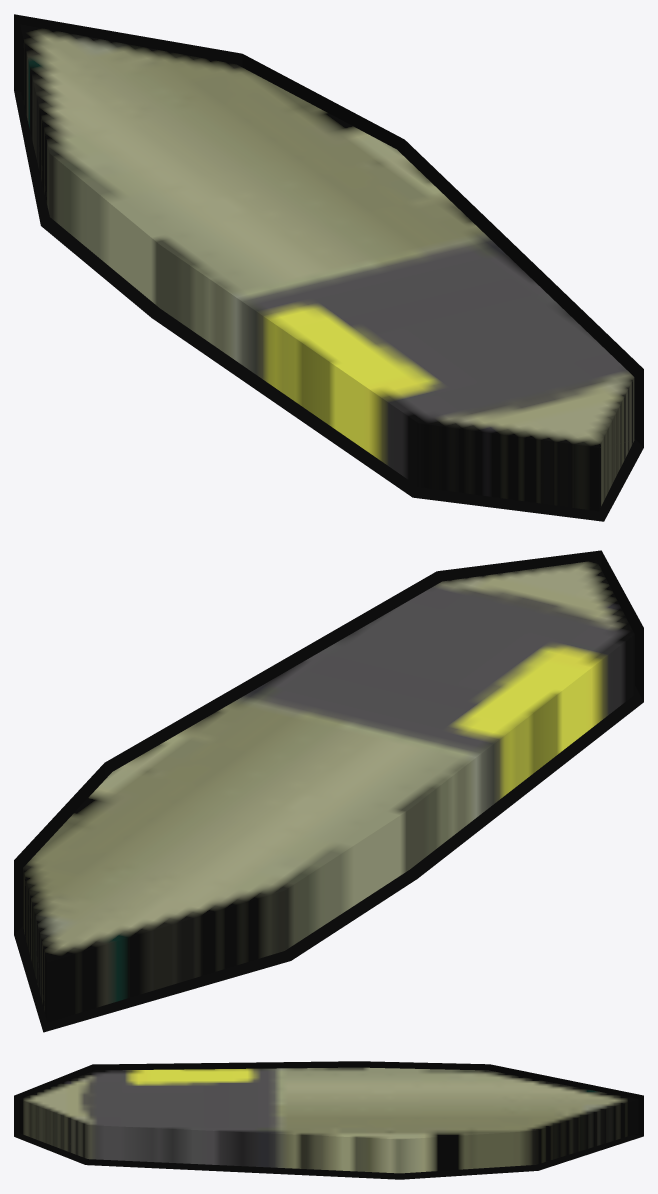
Rendered from Item_Apparel_PsychicInsanityLance_Things_Item_Artifact_PsychicInsanityLance_PsychicInsanityLance.glb.
3 views of the same model, one above another, from view 1: azimuth 30°, elevation 25°; view 2: azimuth 150°, elevation 25°; view 3: azimuth 270°, elevation 25° (orthographic). The views are drawn at different scales.
Parts seen in each view (by area): view 1: Body, Outline; view 2: Body, Outline; view 3: Body, Outline.
Part boxes in pixels (bbox=[...]): Body: bbox=[20, 24, 634, 511]; Outline: bbox=[14, 14, 643, 521]; Body: bbox=[23, 560, 634, 1022]; Outline: bbox=[14, 550, 643, 1032]; Body: bbox=[19, 1067, 638, 1173]; Outline: bbox=[14, 1061, 643, 1179].
Bounding box in the file's own units: 0.2066 × 0.054 × 0.7238.
2 materials, 1 textured.
